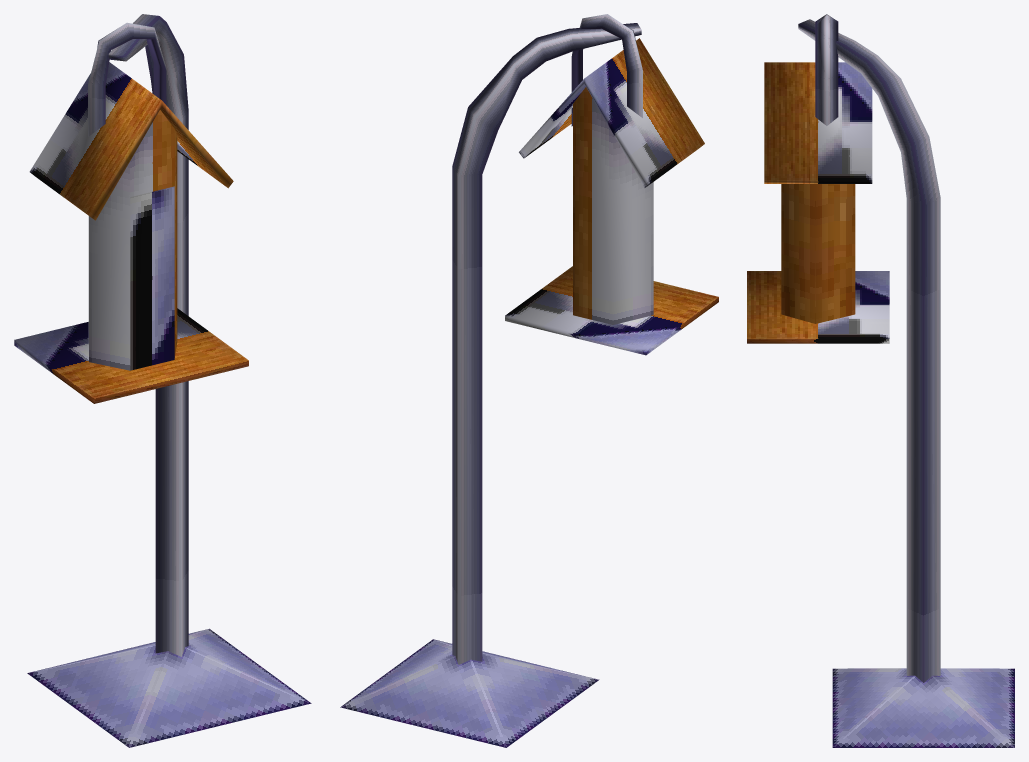
The model's file is int_gdn_birdfeeder.dae.
3 views of the same model, side by side, from view 1: azimuth 30°, elevation 25°; view 2: azimuth 150°, elevation 25°; view 3: azimuth 270°, elevation 25° (orthographic). The views are drawn at different scales.
Parts seen in each view (by area): view 1: int_gdn_birdfeeder; view 2: int_gdn_birdfeeder; view 3: int_gdn_birdfeeder.
Part boxes in pixels (x1,y1,x2,y2): int_gdn_birdfeeder: (14, 14, 311, 747); int_gdn_birdfeeder: (340, 14, 718, 747); int_gdn_birdfeeder: (747, 14, 1014, 747).
Bounding box in the file's own units: 19.2 × 50.4 × 18.8.
1 material, 1 textured.
